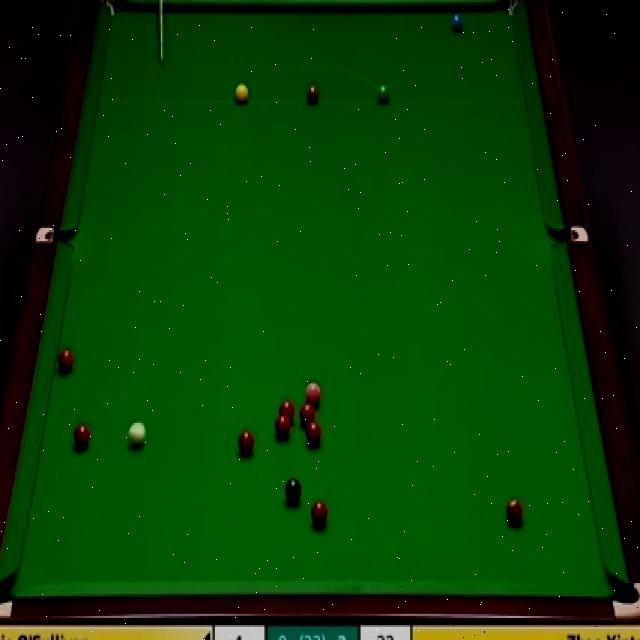black-ball: (285, 476, 303, 507)
blue-ball: (449, 9, 466, 36)
brown-ball: (306, 84, 320, 107)
green-ball: (376, 83, 391, 107)
pink-ball: (302, 379, 322, 406)
red-ball: (72, 422, 91, 452), (506, 495, 523, 525), (312, 502, 331, 528), (238, 429, 254, 457), (274, 415, 291, 441), (56, 348, 73, 374), (306, 420, 322, 446), (278, 400, 296, 423), (299, 404, 316, 425)
white-ball: (127, 420, 149, 450)
yellow-ball: (235, 82, 249, 106)
